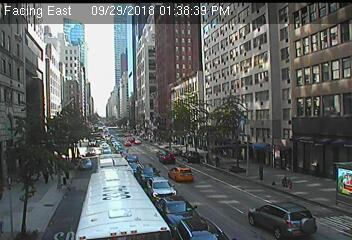car: (76, 171, 171, 240), (247, 201, 316, 240), (154, 196, 200, 231), (174, 217, 229, 240), (97, 154, 133, 187), (147, 176, 176, 204), (135, 163, 159, 185), (168, 167, 194, 183), (181, 151, 199, 163), (159, 153, 174, 164), (79, 158, 91, 170), (128, 161, 141, 172), (125, 154, 138, 164), (101, 148, 112, 157), (169, 148, 181, 156), (85, 148, 95, 156), (156, 150, 169, 156)
